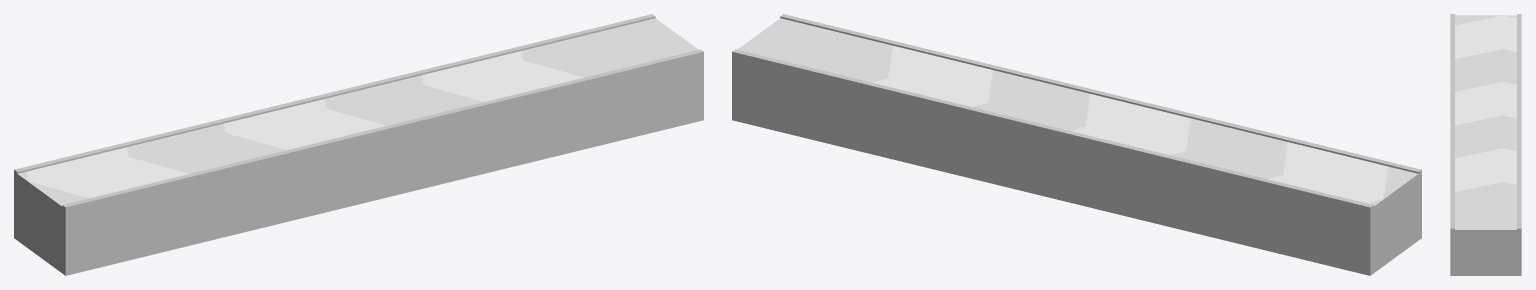
File: road2.fbx
The picture shows the model from 3 angles, left to right: view 1: azimuth 30°, elevation 25°; view 2: azimuth 150°, elevation 25°; view 3: azimuth 270°, elevation 25°; orthographic projection. The views are drawn at different scales.
Parts seen in each view (by area): view 1: Cube; view 2: Cube; view 3: Cube.
Boxes of the visible parts, x1,y1,x2,y2 form: Cube: (14, 14, 703, 275); Cube: (732, 14, 1421, 275); Cube: (1450, 14, 1521, 275).
Bounding box in the file's own units: 5 × 0.513 × 0.7.
